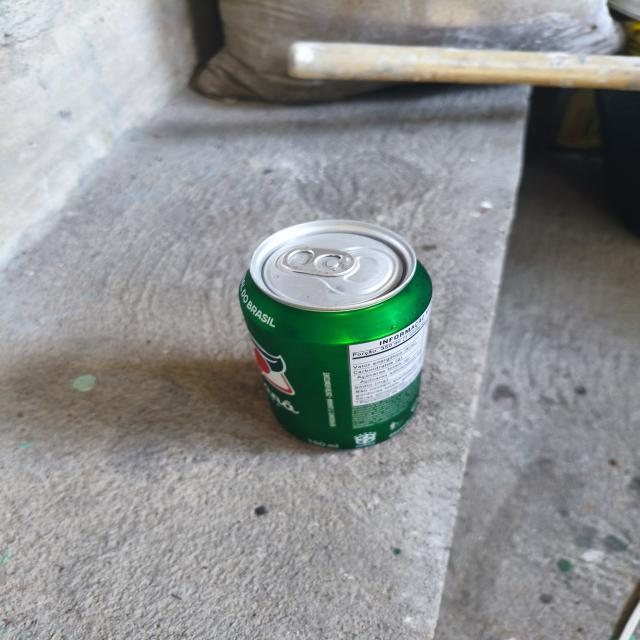Guarana: (218, 218, 481, 472)
